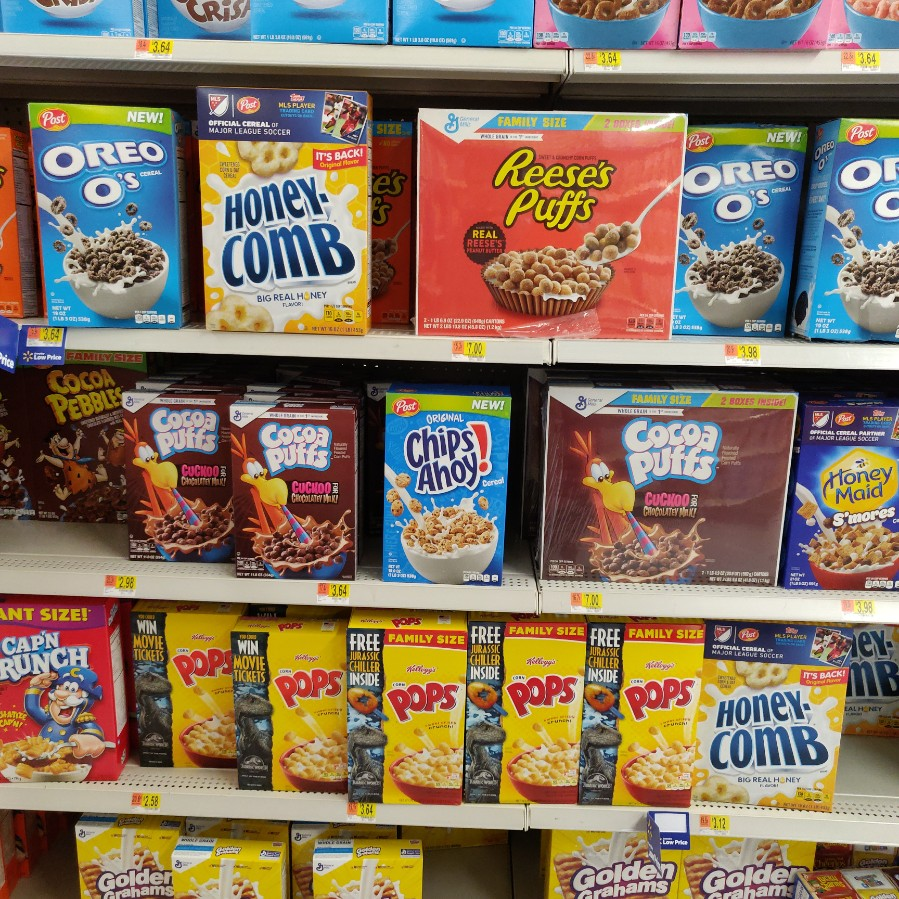Chips Ahoys-565717529: (382, 392, 510, 584)
Honey Comb- 009288857: (197, 79, 385, 332), (707, 622, 844, 809), (839, 626, 899, 735)
Oreo-563424384: (25, 100, 194, 334), (677, 116, 797, 341), (808, 120, 899, 348)
